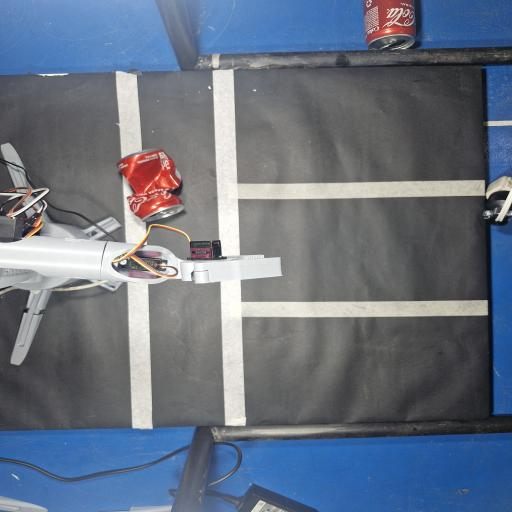lata_defectuoso: (118, 150, 184, 221)
